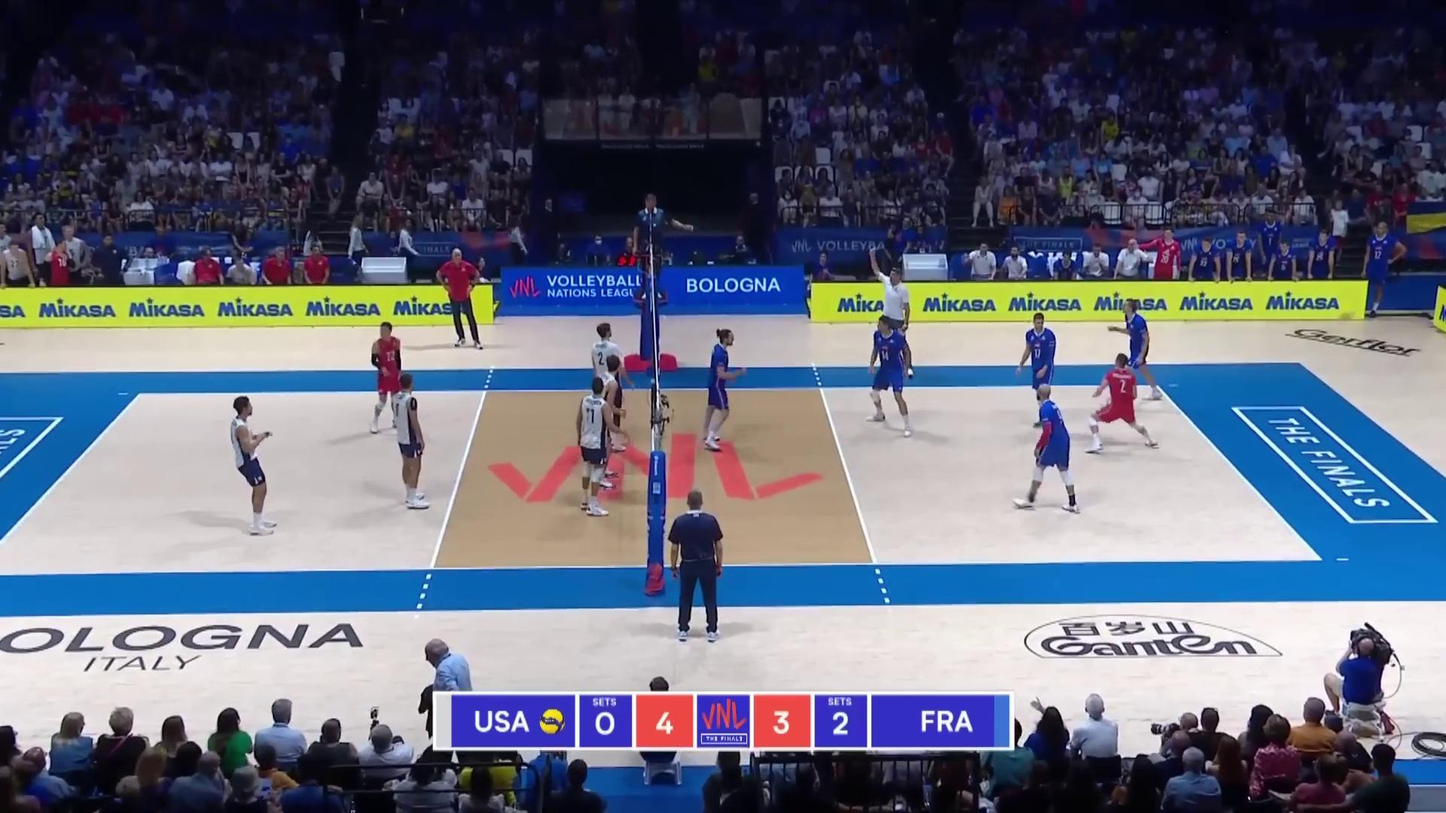player: (1016, 386, 1079, 512), (1087, 353, 1155, 452), (230, 396, 277, 536), (577, 377, 620, 514), (590, 323, 635, 450), (867, 316, 914, 437), (390, 376, 430, 511), (1111, 300, 1159, 401), (591, 354, 626, 489), (704, 330, 742, 452), (369, 322, 407, 434), (1022, 313, 1057, 427)
refree: (669, 491, 725, 642), (630, 195, 680, 303)
